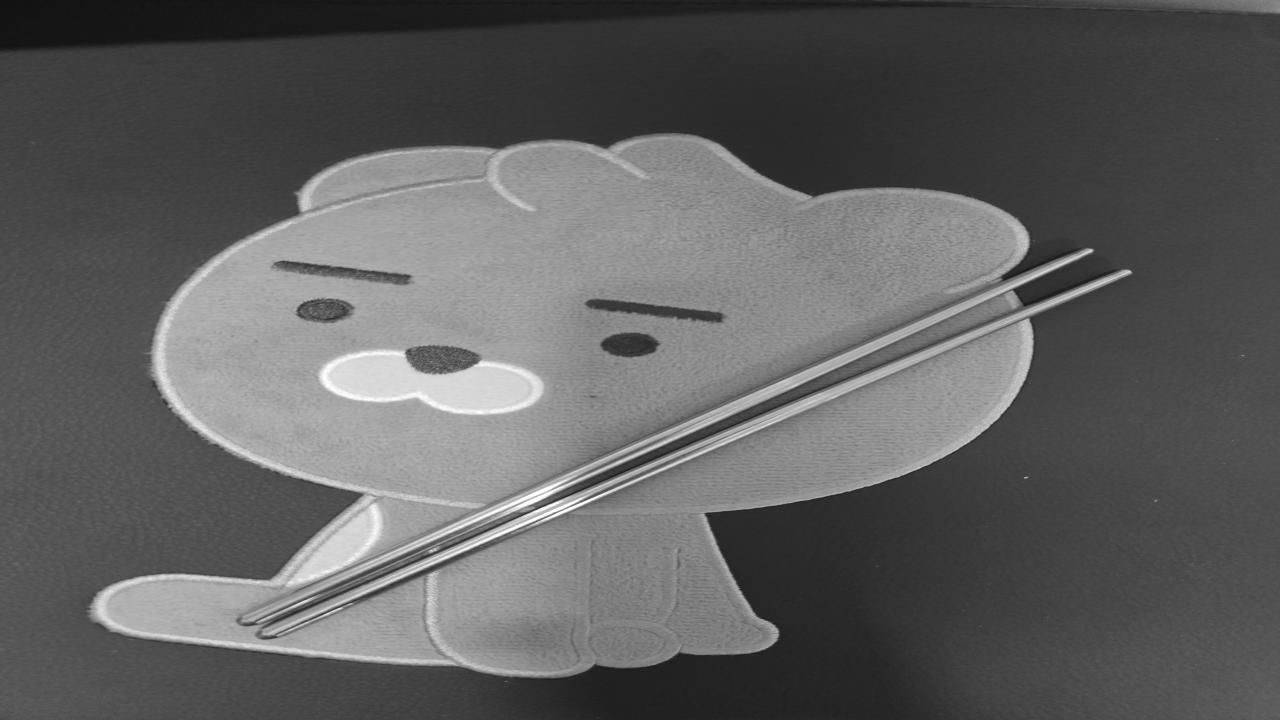chopstick: (224, 236, 1142, 646)
